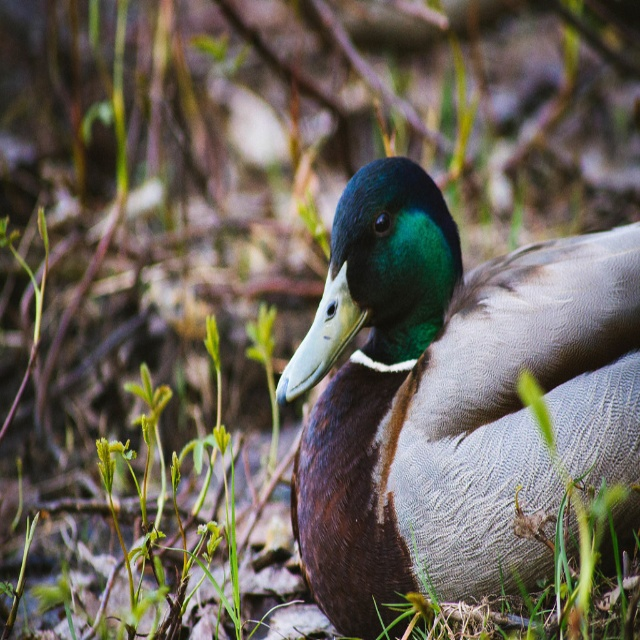Duck: (271, 152, 639, 639)
